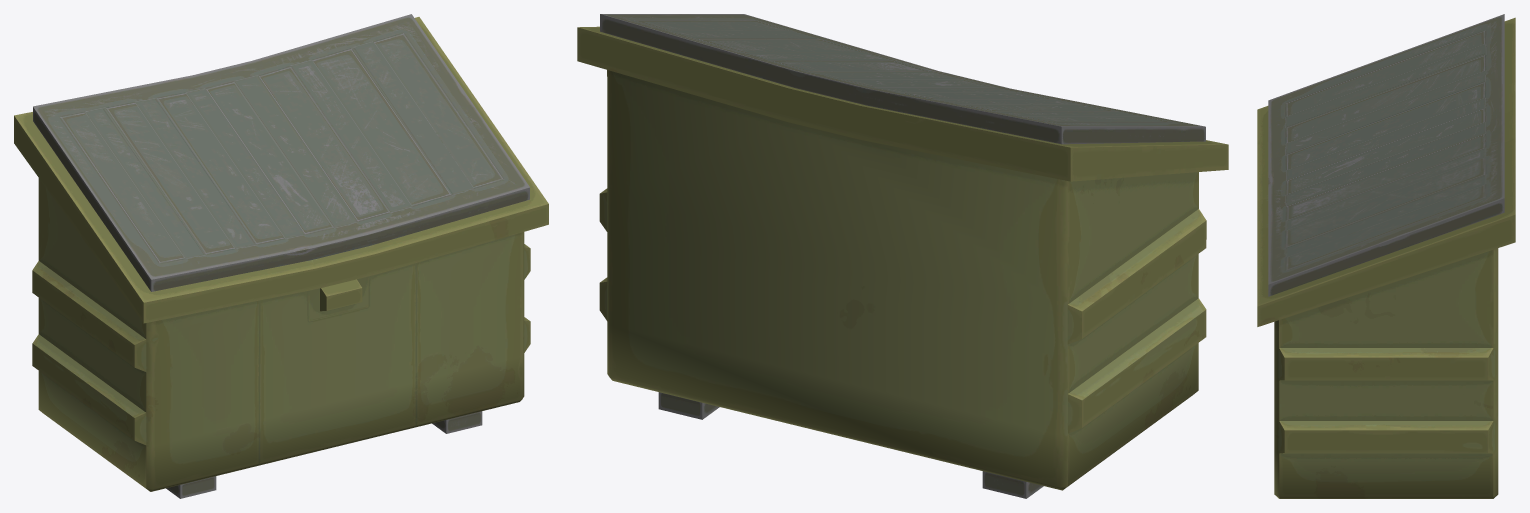
The model's file is SM_garbage_container.glb.
The picture shows the model from 3 angles, left to right: view 1: azimuth 30°, elevation 25°; view 2: azimuth 150°, elevation 25°; view 3: azimuth 270°, elevation 25°; orthographic projection. The views are drawn at different scales.
Parts seen in each view (by area): view 1: SM_garbage_container; view 2: SM_garbage_container; view 3: SM_garbage_container.
Part boxes in pixels (x1,y1,x2,y2): SM_garbage_container: [14, 14, 548, 498]; SM_garbage_container: [577, 14, 1228, 498]; SM_garbage_container: [1257, 14, 1515, 498].
Bounding box in the file's own units: 2.7 × 2.03 × 1.49.
1 material, 1 textured.
